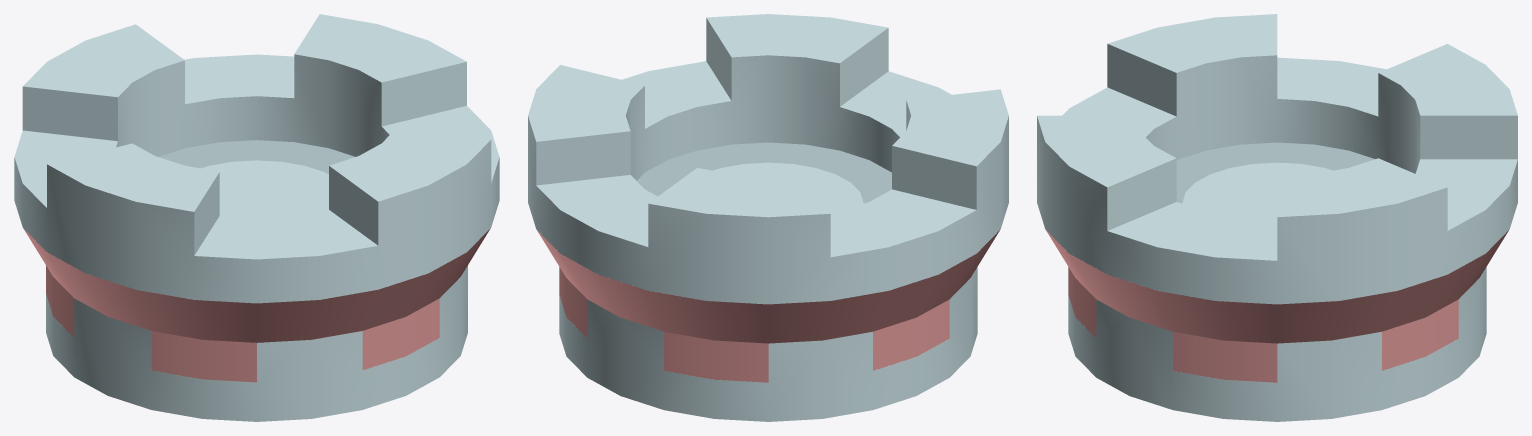
Rendered from towerRound_topC.glb.
3 views of the same model, side by side, from view 1: azimuth 30°, elevation 25°; view 2: azimuth 150°, elevation 25°; view 3: azimuth 270°, elevation 25° (orthographic).
Parts seen in each view (by area): view 1: towerRound_topC; view 2: towerRound_topC; view 3: towerRound_topC.
Part boxes in pixels (x1,y1,x2,y2): towerRound_topC: (14,14,499,421); towerRound_topC: (528,14,1008,421); towerRound_topC: (1037,14,1517,421).
Bounding box in the file's own units: 1 × 0.5 × 1.
